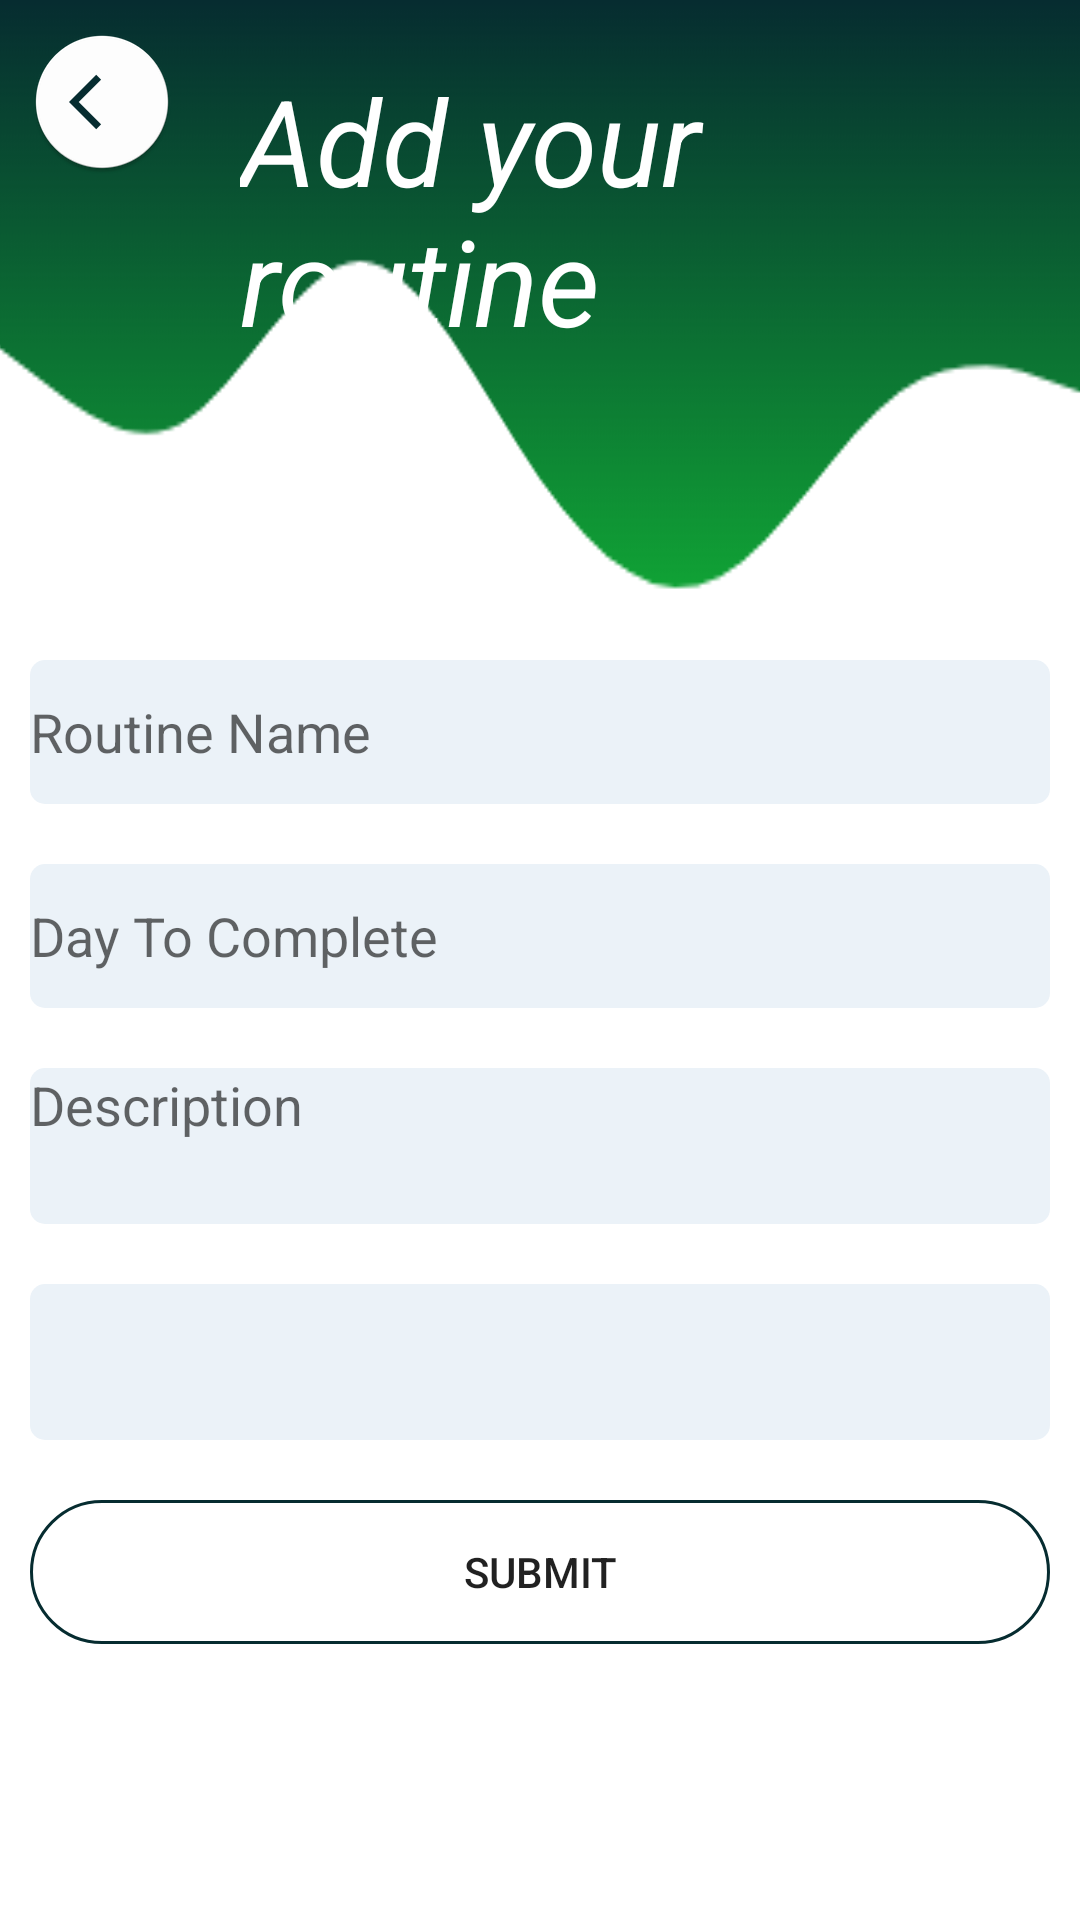

Icon bounding boxes for this 1080*1920 phone screenshot, format (x1, y1, x2, y2):
back: (35, 35, 169, 168)
